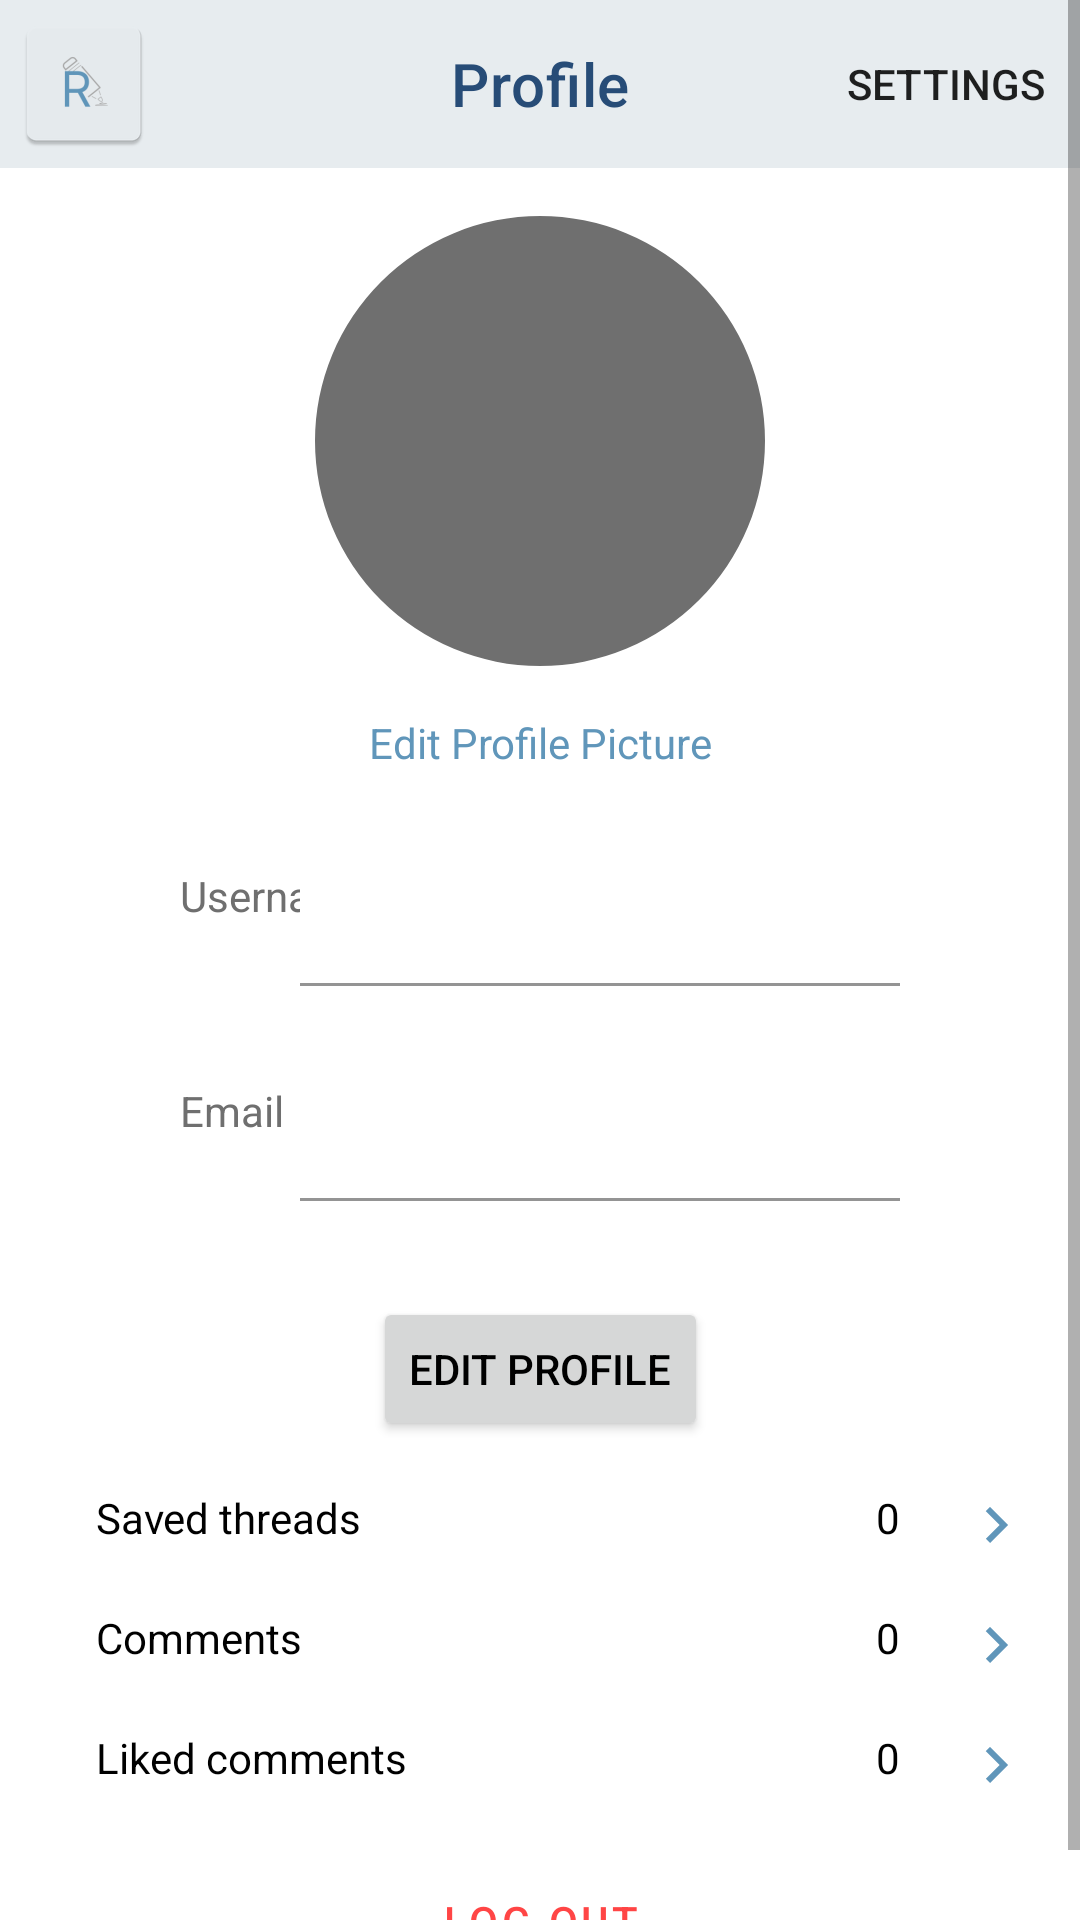

Where icons sit on this 1080px x 1920px app screen, as (x1, y1, x2, y2):
arrow next: (986, 1507, 1008, 1543), (986, 1627, 1008, 1663), (986, 1747, 1008, 1783)
